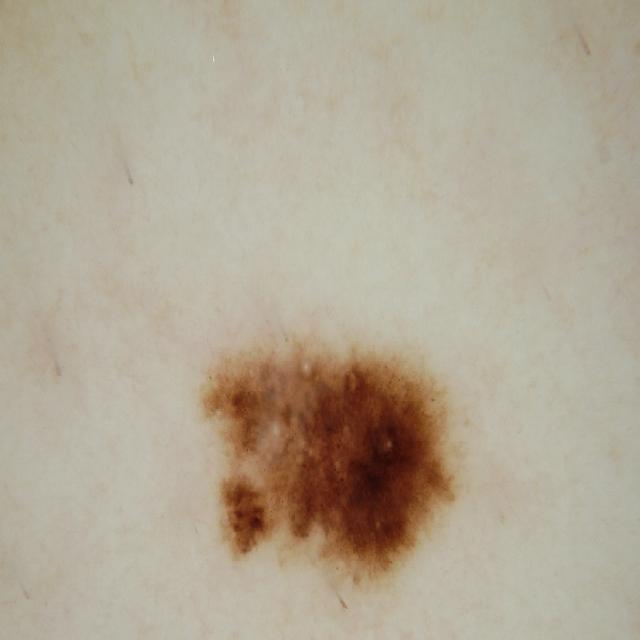Melanoma: (191, 306, 487, 610)
